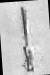T22: (2, 0, 48, 74)
